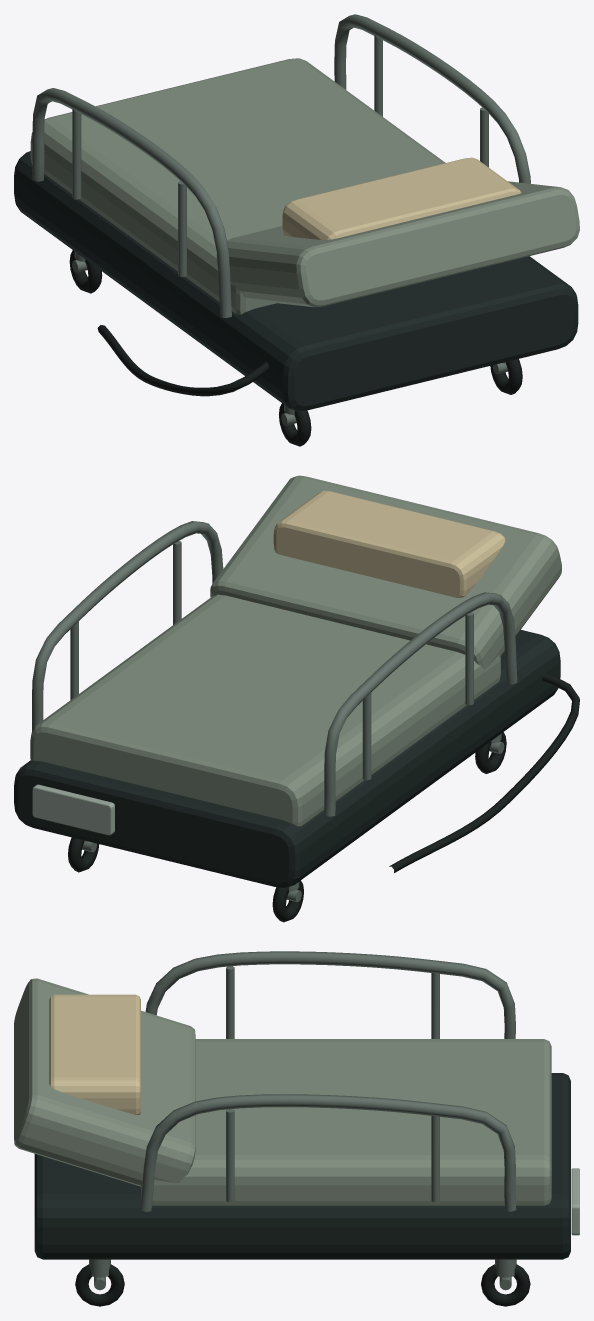
The model's file is recovery-bed.glb.
The picture shows the model from 3 angles, top to bottom: view 1: azimuth 30°, elevation 25°; view 2: azimuth 150°, elevation 25°; view 3: azimuth 270°, elevation 25°; orthographic projection. The views are drawn at different scales.
Visible parts, largest first — view 1: recovery-bed-cloth, recovery-bed-dark, recovery-bed-steel, recovery-bed-ivory, recovery-bed-rubber; view 2: recovery-bed-cloth, recovery-bed-dark, recovery-bed-ivory, recovery-bed-steel, recovery-bed-rubber, recovery-bed-enamel; view 3: recovery-bed-cloth, recovery-bed-dark, recovery-bed-steel, recovery-bed-ivory, recovery-bed-rubber, recovery-bed-enamel.
Boxes of the visible parts, x1=… form: recovery-bed-cloth: x1=30, y1=58, x2=579, y2=314; recovery-bed-dark: x1=14, y1=151, x2=578, y2=410; recovery-bed-steel: x1=32, y1=14, x2=530, y2=425; recovery-bed-ivory: x1=282, y1=157, x2=521, y2=239; recovery-bed-rubber: x1=69, y1=250, x2=522, y2=446; recovery-bed-cloth: x1=30, y1=475, x2=561, y2=826; recovery-bed-dark: x1=14, y1=630, x2=560, y2=887; recovery-bed-ivory: x1=273, y1=490, x2=505, y2=597; recovery-bed-steel: x1=32, y1=521, x2=517, y2=902; recovery-bed-rubber: x1=68, y1=673, x2=579, y2=922; recovery-bed-enamel: x1=32, y1=784, x2=114, y2=835; recovery-bed-cloth: x1=14, y1=978, x2=551, y2=1205; recovery-bed-dark: x1=34, y1=1073, x2=570, y2=1259; recovery-bed-steel: x1=89, y1=951, x2=516, y2=1290; recovery-bed-ivory: x1=49, y1=994, x2=140, y2=1114; recovery-bed-rubber: x1=75, y1=1264, x2=530, y2=1306; recovery-bed-enamel: x1=571, y1=1168, x2=579, y2=1235.
Size of the model in its own units: 1.63 by 1.06 by 2.34.
